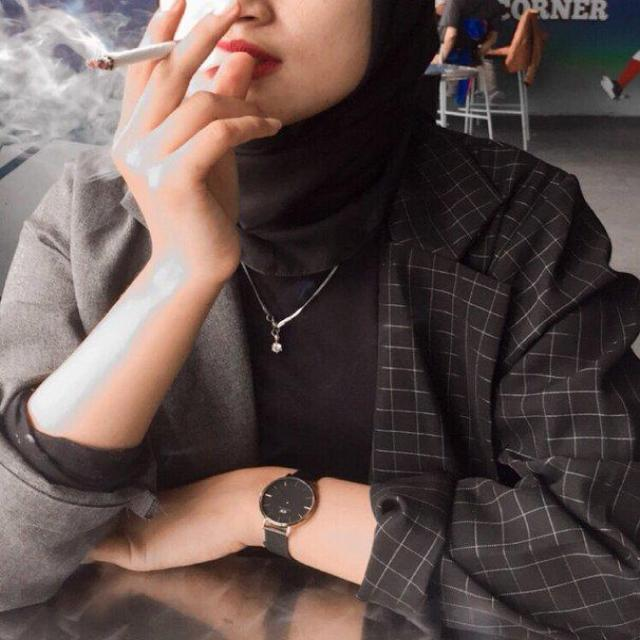rokok: (82, 41, 178, 71)
